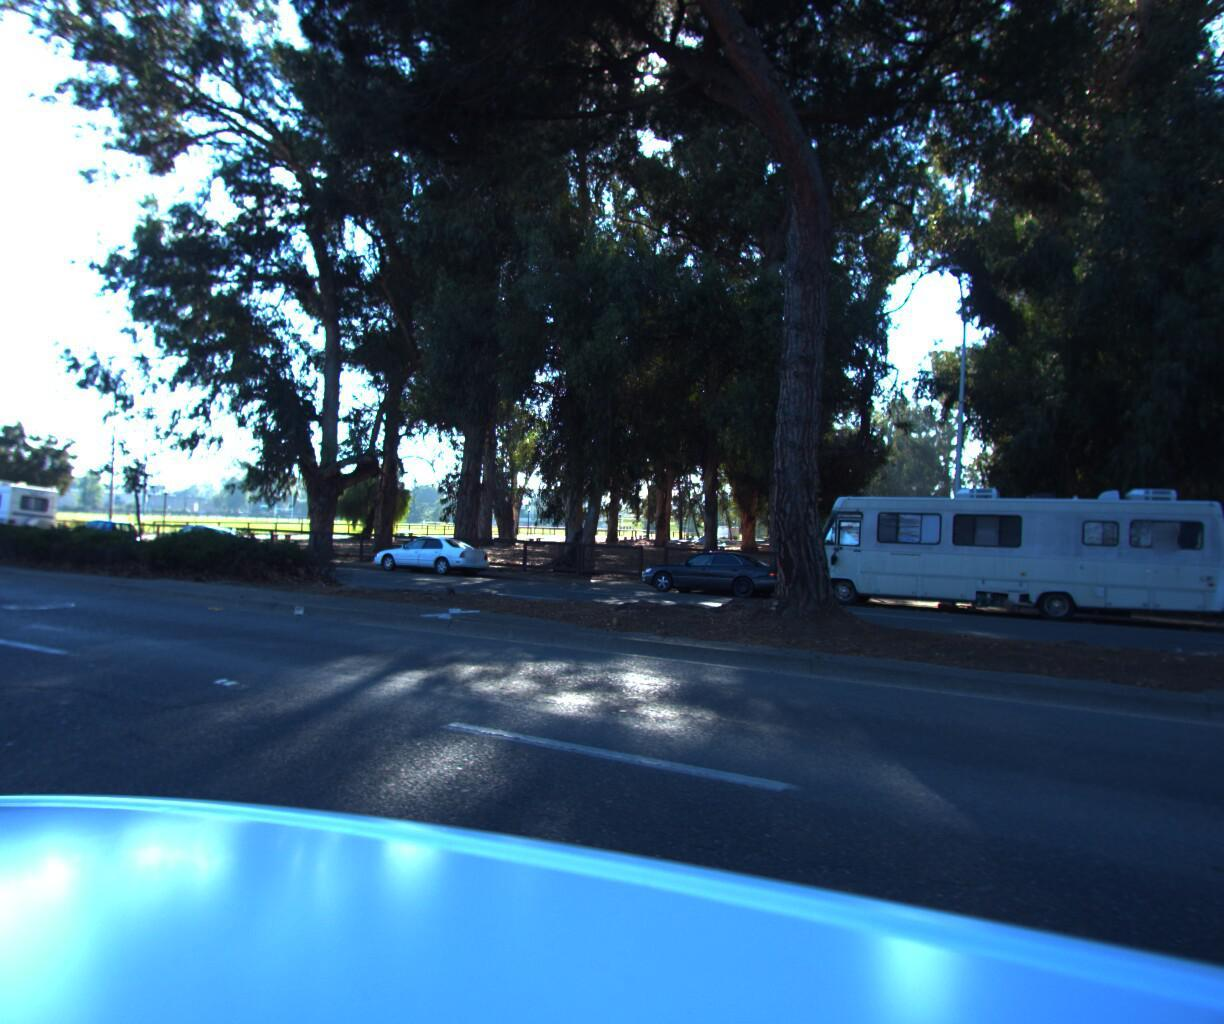car: (631, 551, 799, 607), (359, 535, 496, 586), (149, 526, 253, 566), (58, 521, 148, 559)
other_vehicle: (791, 481, 1224, 637), (0, 481, 71, 552)
